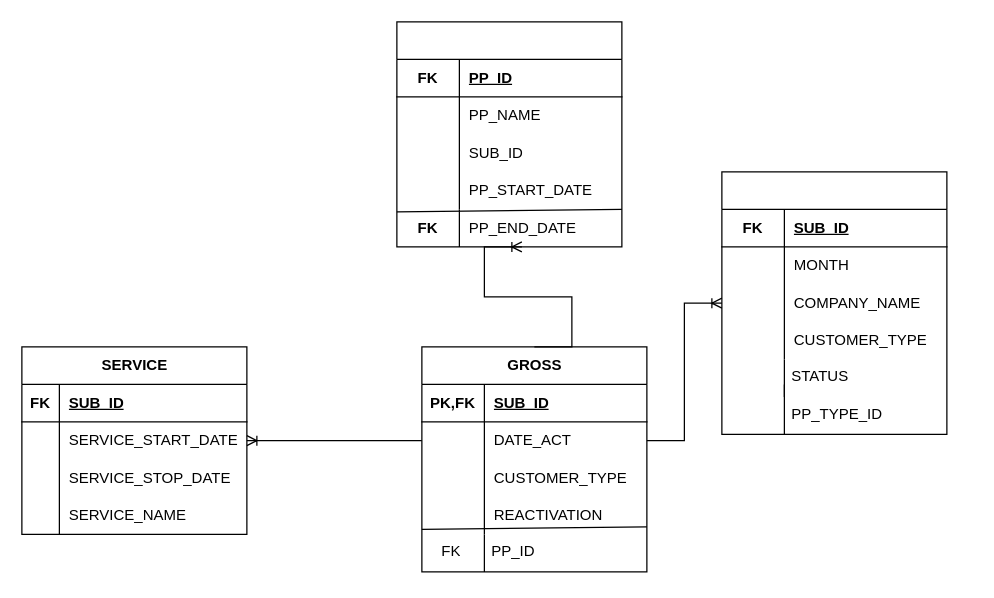
Some shapes in this 994 by 598 pixel diagram are drawn without their labels. The box of each missing label's shape, as (x1, y1, x2, y2) in pixels:
SUBSCRIBER: (721, 171, 947, 434)
TARIFF: (396, 21, 622, 247)
